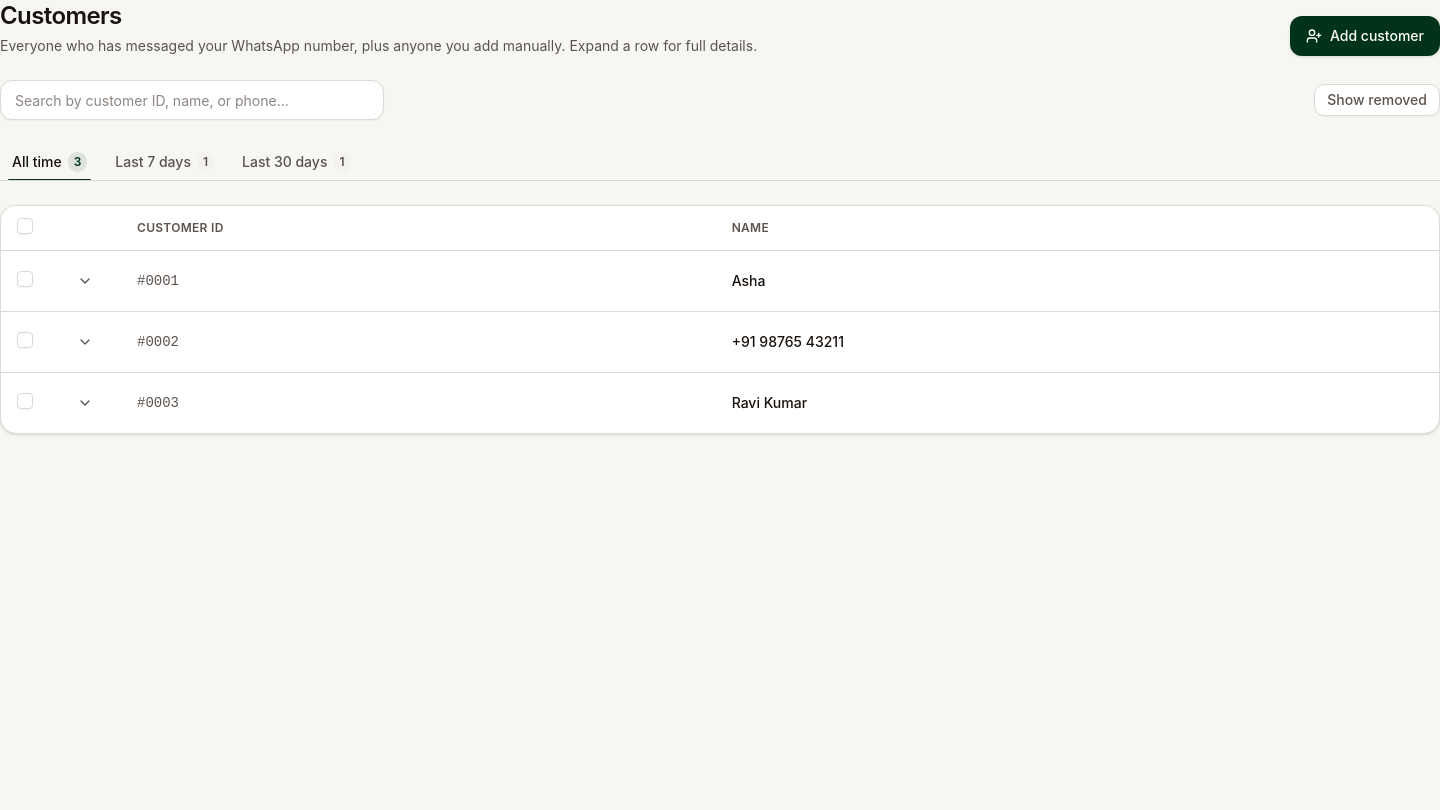
Test: CustomersPage › selects customers via checkboxes and bulk-removes the active ones behind a confirmation
The image size is (1440, 810).
Expected: the text "Asha" is shown, [716,250,1439,311]
Expected: the text "2 selected" is not shown
Step 1. Click the checkbox named "Select Asha" → [25, 278], box [17,270,33,286]
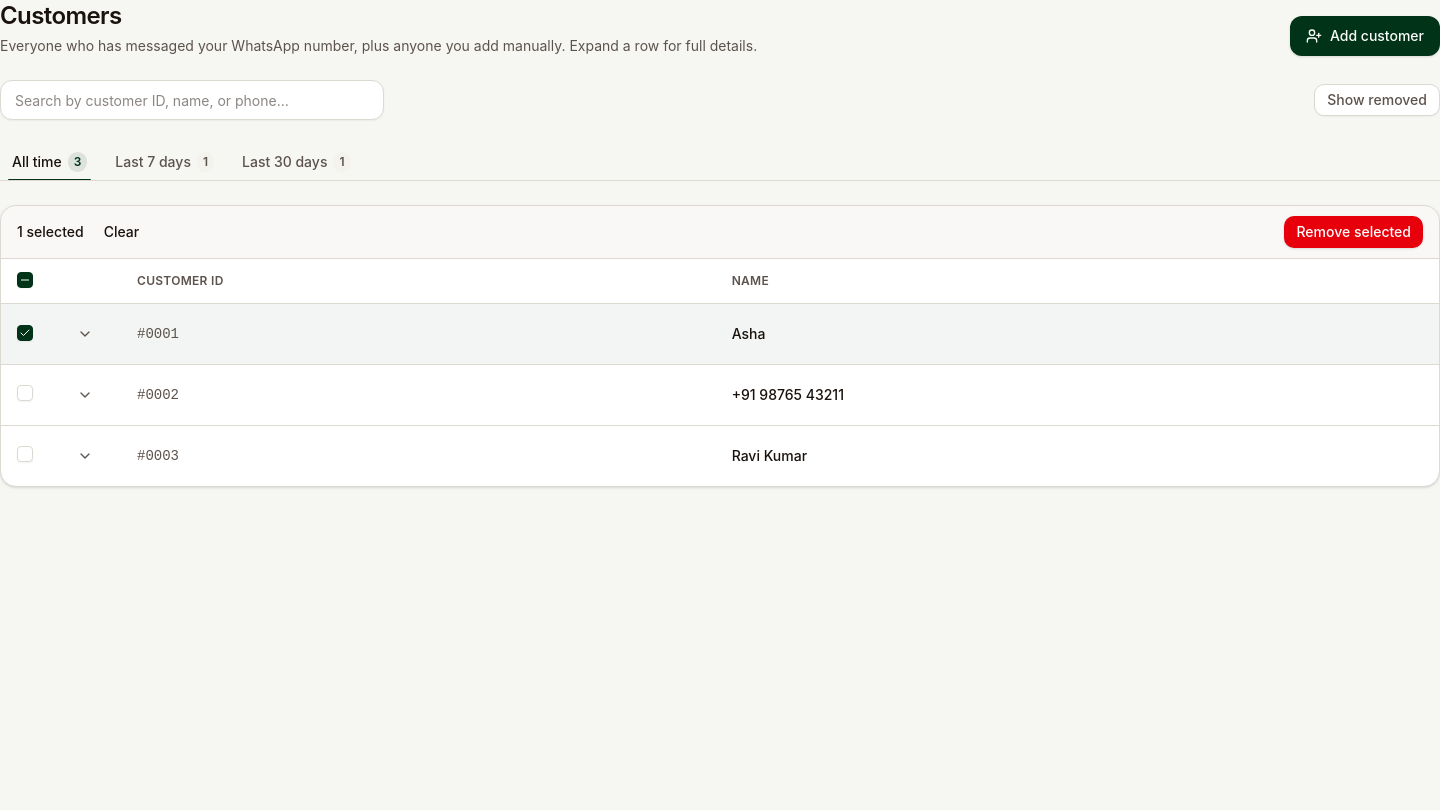
Step 2. Click the checkbox named "Select Ravi Kumar" → [25, 454], box [17,446,33,462]
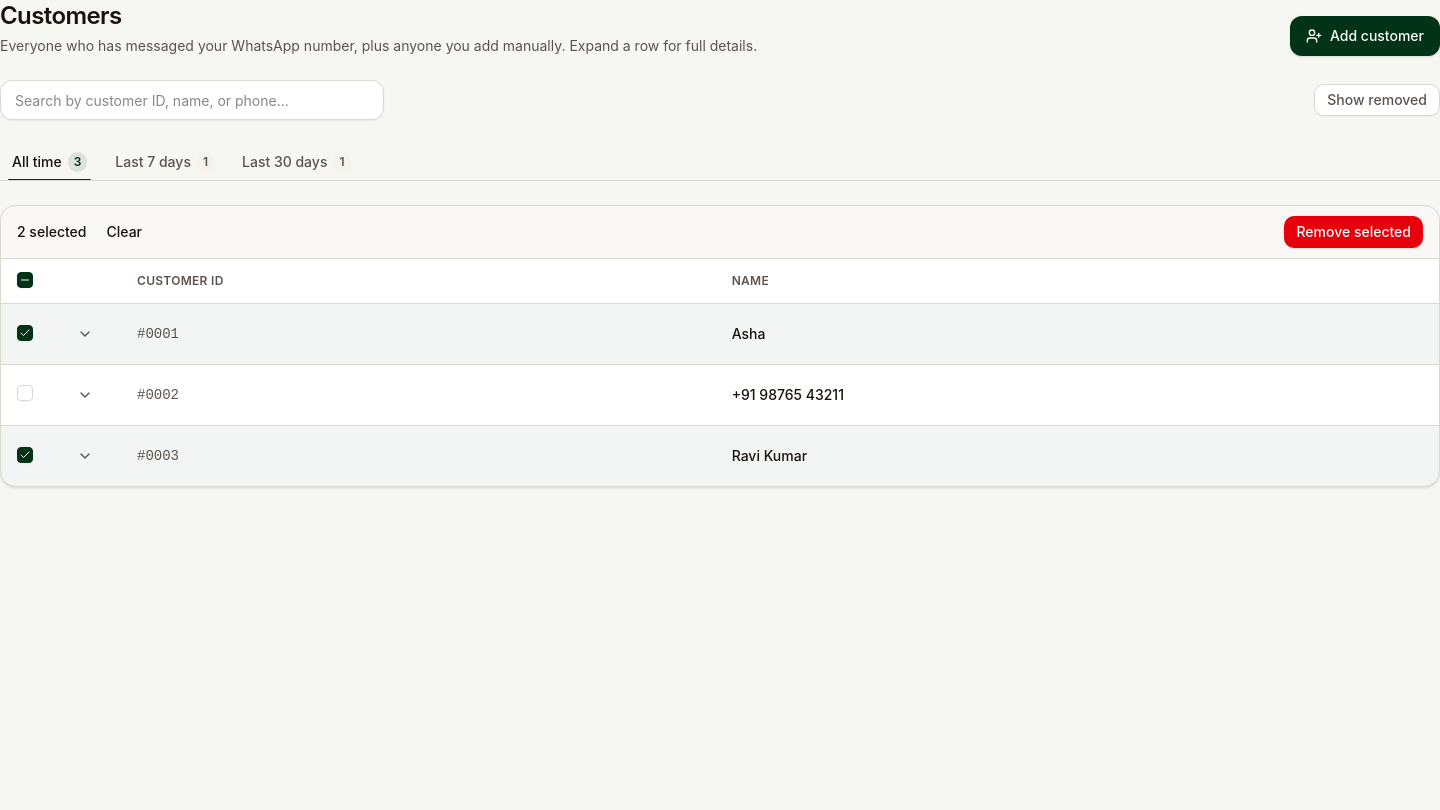
Expected: the text "2 selected" is shown, [17,222,86,242]
Step 3. Click the button "Remove selected" → [1354, 232], box [1284,216,1423,248]
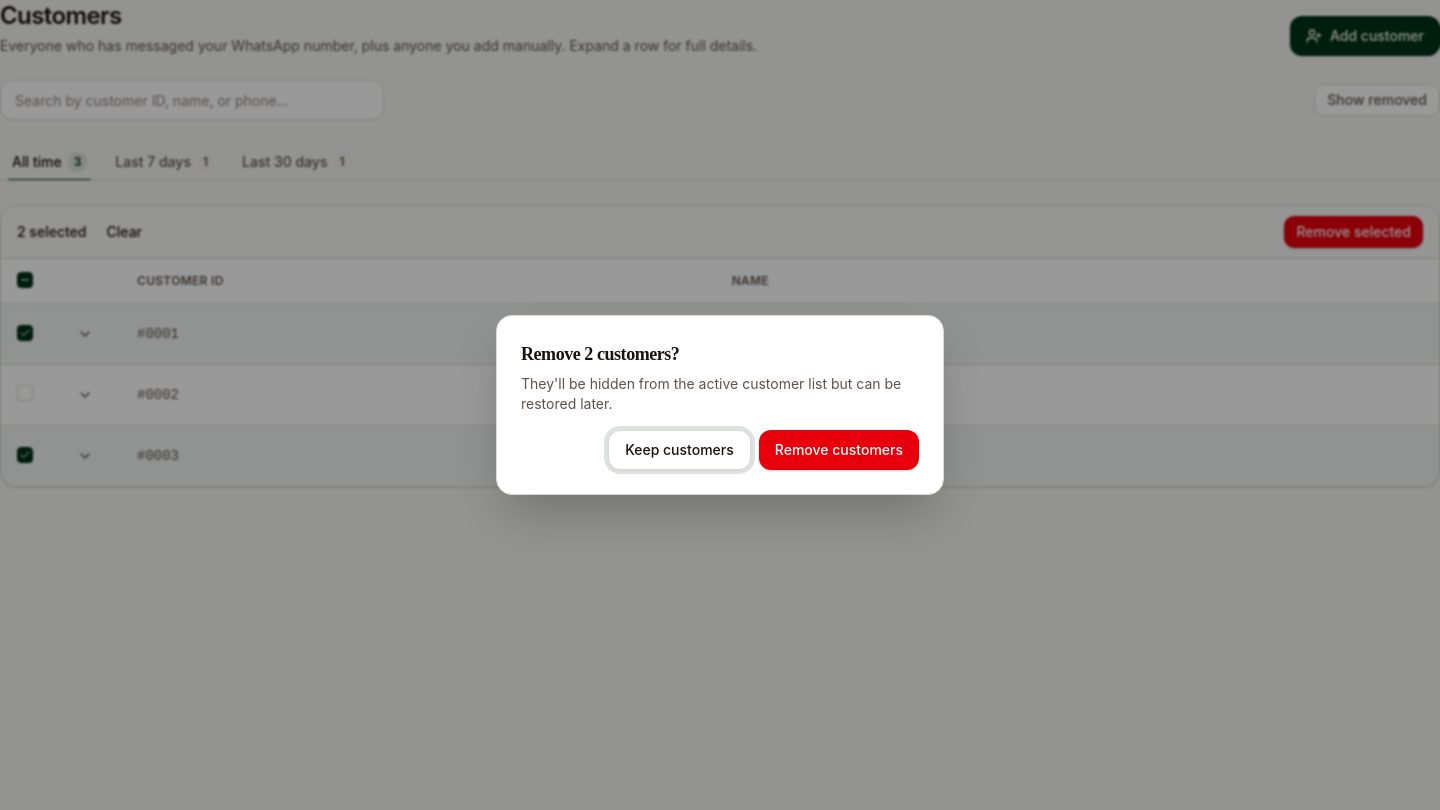
Expected: the dialog is shown, [496,315,944,495]
Expected: the heading "Remove 2 customers?" is shown, [521,344,679,364]
Step 4. Click the button "Remove customers" → [839, 450], box [759,430,919,470]
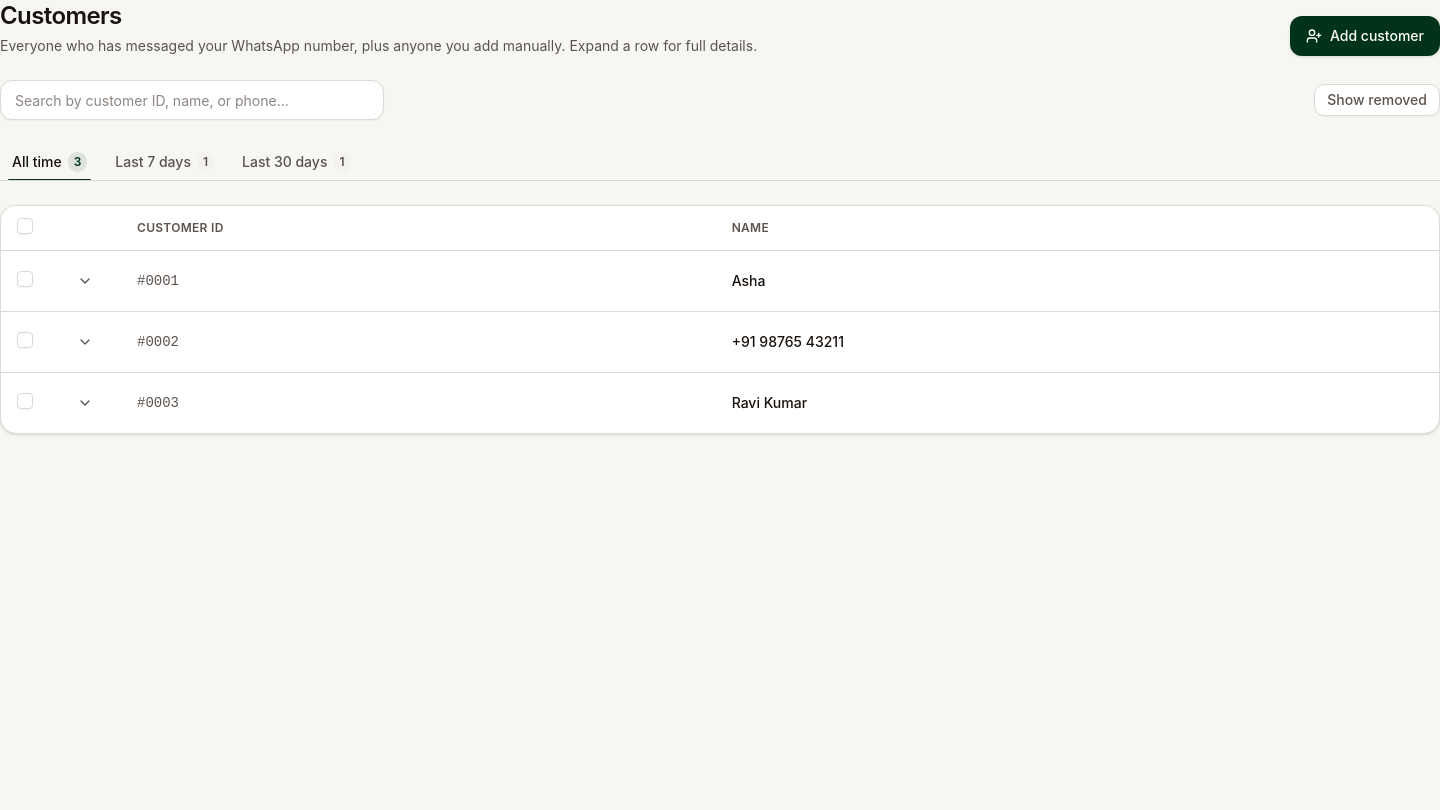
Expected: the text "2 selected" is gone
